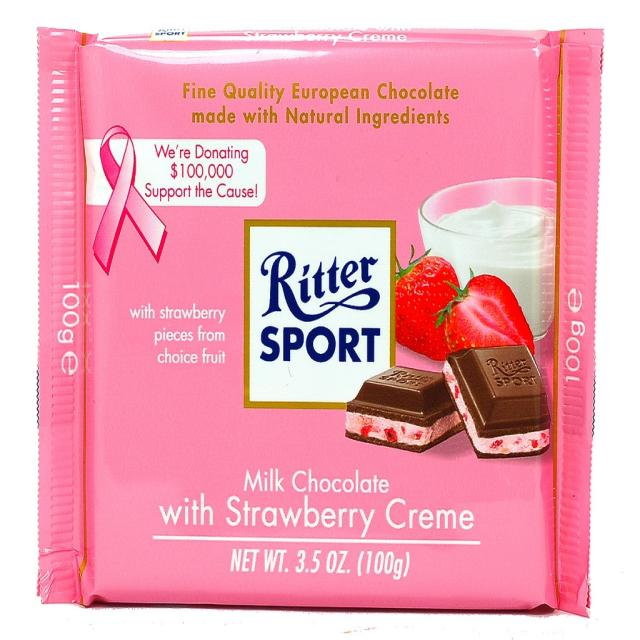rittersport: (245, 221, 397, 411)
